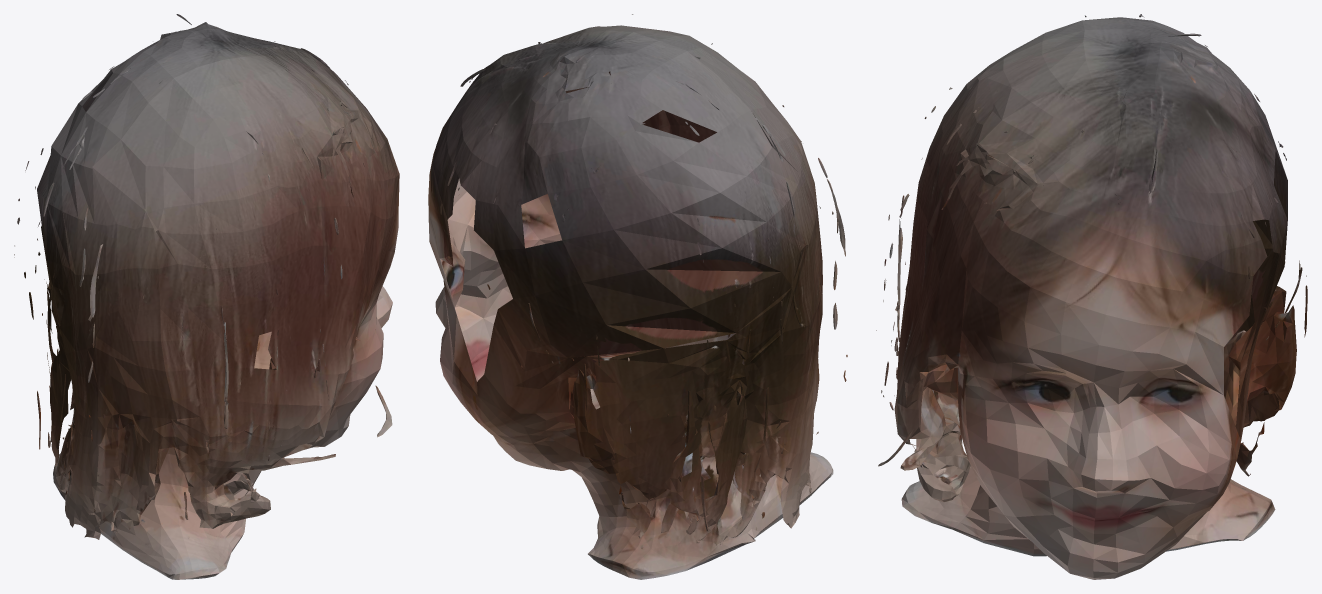
File: Meme1_girl_3d.fbx
3 views of the same model, side by side, from view 1: azimuth 30°, elevation 25°; view 2: azimuth 150°, elevation 25°; view 3: azimuth 270°, elevation 25° (orthographic). The views are drawn at different scales.
Visible parts, largest first — view 1: tripo_mesh_a7ad2d11-1b0f-498c-95f7-a4769a51a5b2; view 2: tripo_mesh_a7ad2d11-1b0f-498c-95f7-a4769a51a5b2; view 3: tripo_mesh_a7ad2d11-1b0f-498c-95f7-a4769a51a5b2.
Boxes of the visible parts, left/top/right/bottom form: tripo_mesh_a7ad2d11-1b0f-498c-95f7-a4769a51a5b2: left=14, top=14, right=399, bottom=579; tripo_mesh_a7ad2d11-1b0f-498c-95f7-a4769a51a5b2: left=428, top=14, right=847, bottom=579; tripo_mesh_a7ad2d11-1b0f-498c-95f7-a4769a51a5b2: left=876, top=14, right=1307, bottom=579.
Bounding box in the file's own units: 0.8037 × 0.998 × 0.7418.
1 material, 1 textured.
